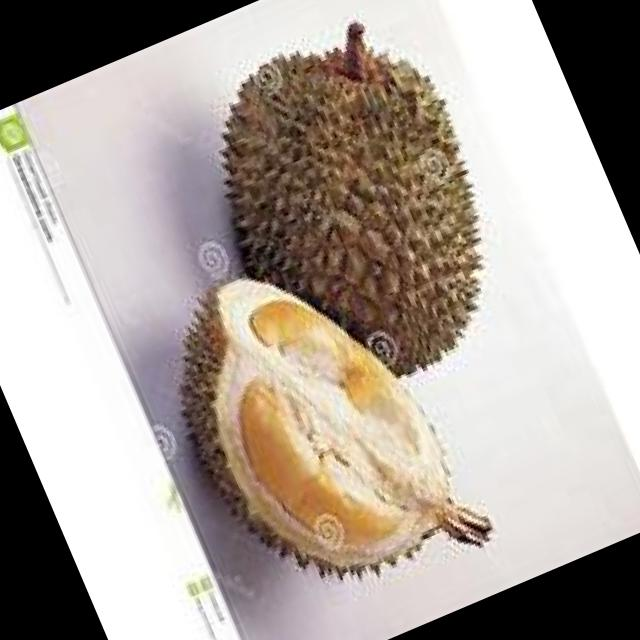fruit: (134, 0, 576, 456), (117, 224, 539, 640)
